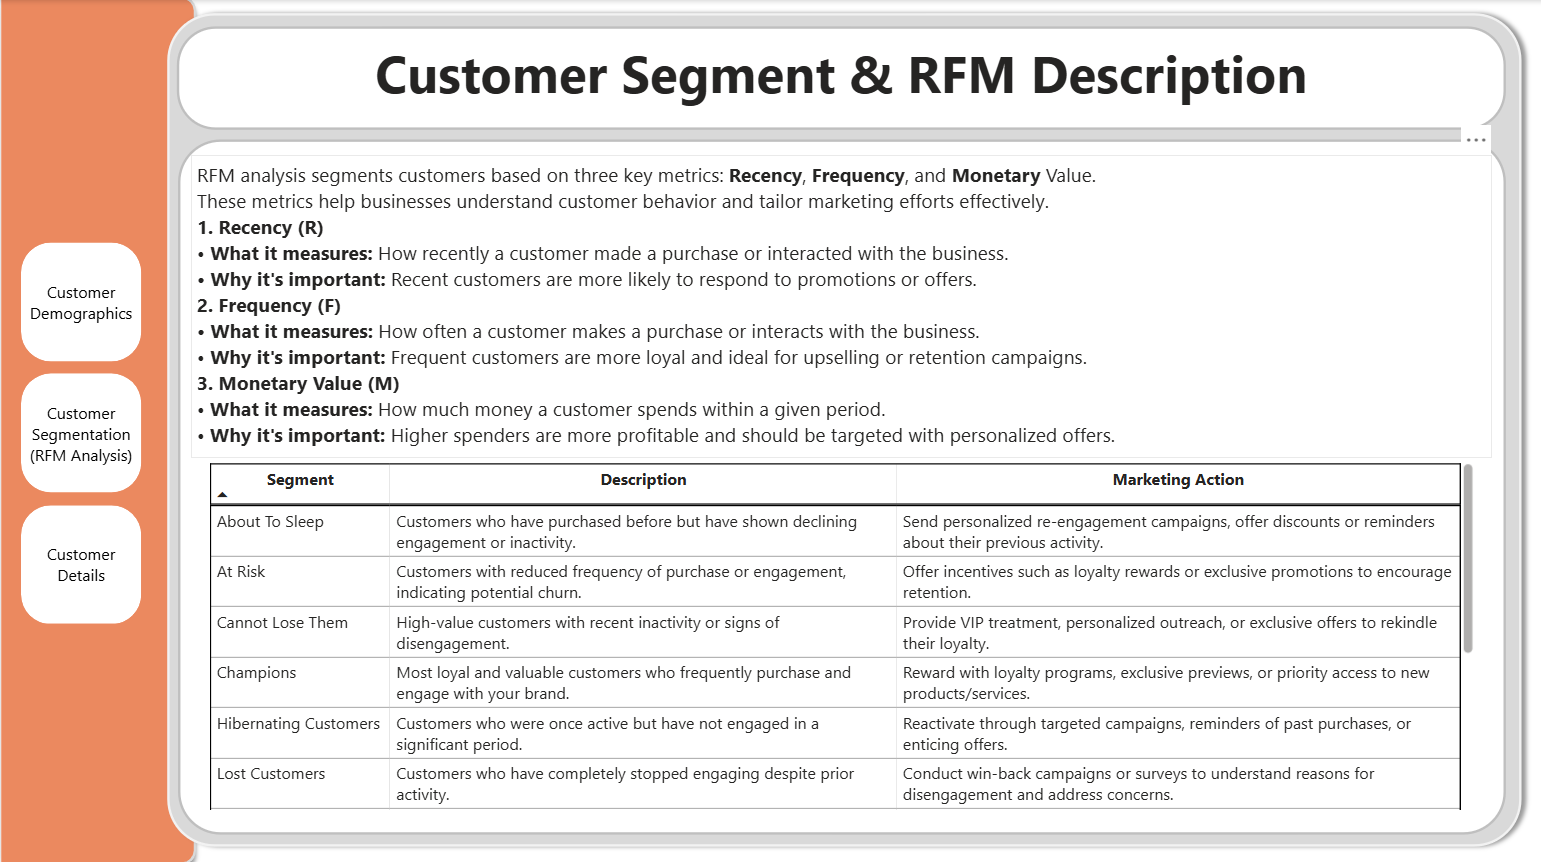

This screenshot's page, from the dashboard's own definition file:
{"tool":"powerbi","page":{"name":"Customer Segment & RFM Description","canvas":[1280,720],"ordinal":3},"visuals":[{"type":"textbox","box":[158.1,25.6,1081.4,77.9],"z":0},{"type":"pageNavigator","box":[16.3,201.2,100,319.8],"z":1000},{"type":"textbox","box":[158.1,129.1,1081.4,251.2],"z":2000},{"type":"tableEx","fields":{"Values":["SegmentDescription.Segment","SegmentDescription.Description","SegmentDescription.Marketing Action"]},"box":[167.4,380.2,1061.6,297.7],"z":3000}]}

Visuals, with their boxes on the page's 1280x720 design canvas (x1, y1, x2, y2). These are canvas units, not pixel positions in the 1541x862 screenshot, which may show the page scaled, cropped or inside an application window:
textbox: locate(158, 26, 1240, 104)
pageNavigator: locate(16, 201, 116, 521)
textbox: locate(158, 129, 1240, 380)
tableEx - SegmentDescription.Segment x SegmentDescription.Description: locate(167, 380, 1229, 678)
